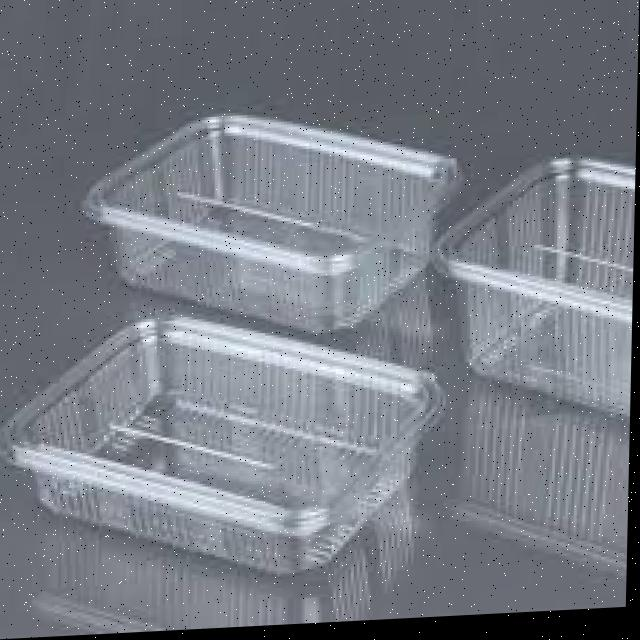disposable: (0, 276, 443, 608), (86, 68, 471, 368)
